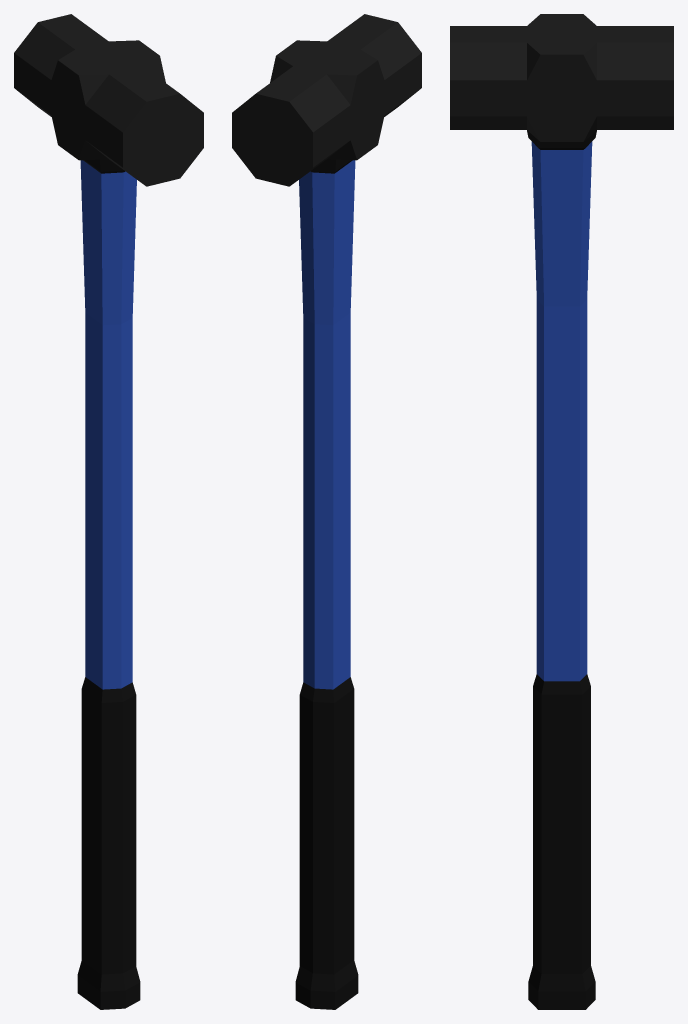
Rendered from Sledgehammer.glb.
The picture shows the model from 3 angles, left to right: view 1: azimuth 30°, elevation 25°; view 2: azimuth 150°, elevation 25°; view 3: azimuth 270°, elevation 25°; orthographic projection. The views are drawn at different scales.
Visible parts, largest first — view 1: Sledgehammer; view 2: Sledgehammer; view 3: Sledgehammer.
Boxes of the visible parts, x1,y1,x2,y2 form: Sledgehammer: [14, 14, 203, 1009]; Sledgehammer: [232, 14, 421, 1009]; Sledgehammer: [450, 14, 673, 1009].
Size of the model in its own units: 0.0749 by 0.8285 by 0.1741.
